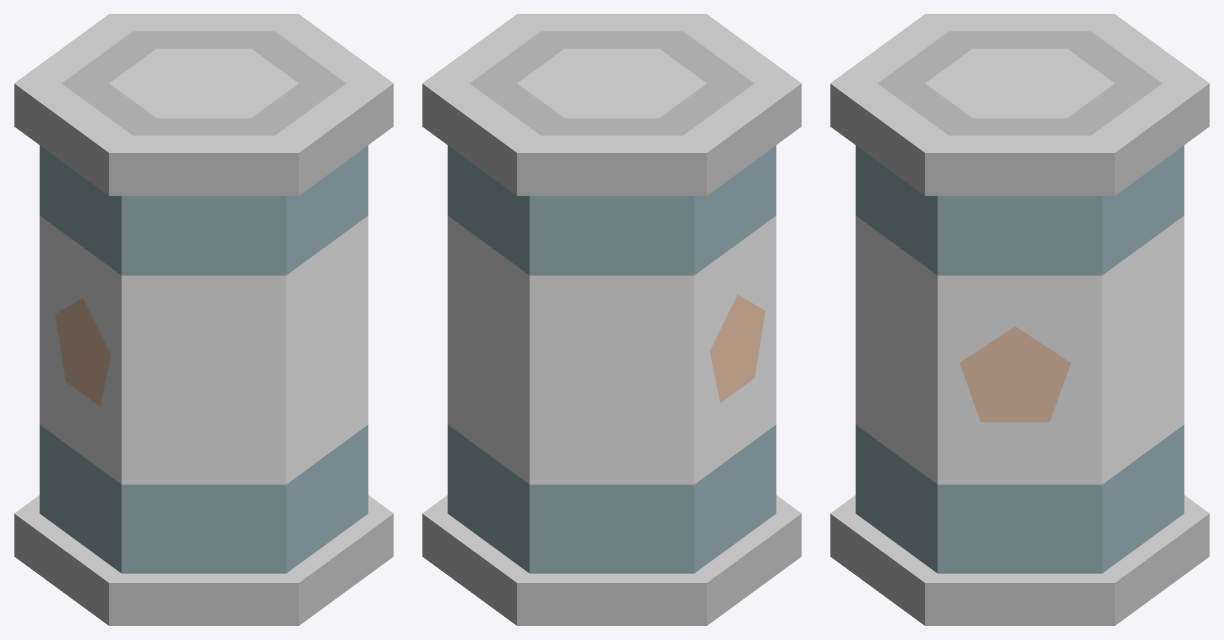
File: BeanCan.fbx
3 renders of one model, left to right at view 1: azimuth 30°, elevation 25°; view 2: azimuth 150°, elevation 25°; view 3: azimuth 270°, elevation 25°, orthographic.
Visible parts, largest first — view 1: BeanCan; view 2: BeanCan; view 3: BeanCan.
Boxes of the visible parts, left/top/right/bottom form: BeanCan: left=14, top=14, right=393, bottom=625; BeanCan: left=422, top=14, right=801, bottom=625; BeanCan: left=830, top=14, right=1209, bottom=625.
Bounding box in the file's own units: 0.0693 × 0.11 × 0.08.
